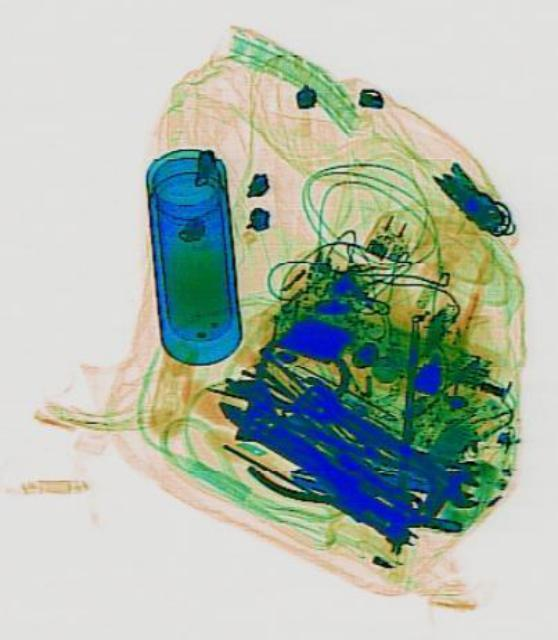Wrench: (196, 357, 429, 558), (299, 376, 484, 514)
